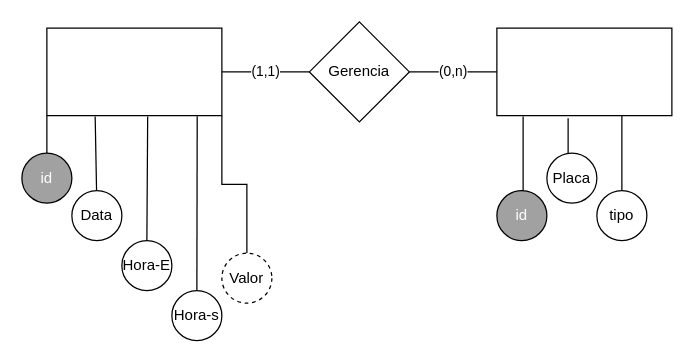
The diagram is 694 pixels wide and 363 high, and some of its shapes have lost their labels. Each missing label, with the box of its shape:
Vaga: (46, 27, 222, 116)
Veiculos: (496, 27, 672, 116)
